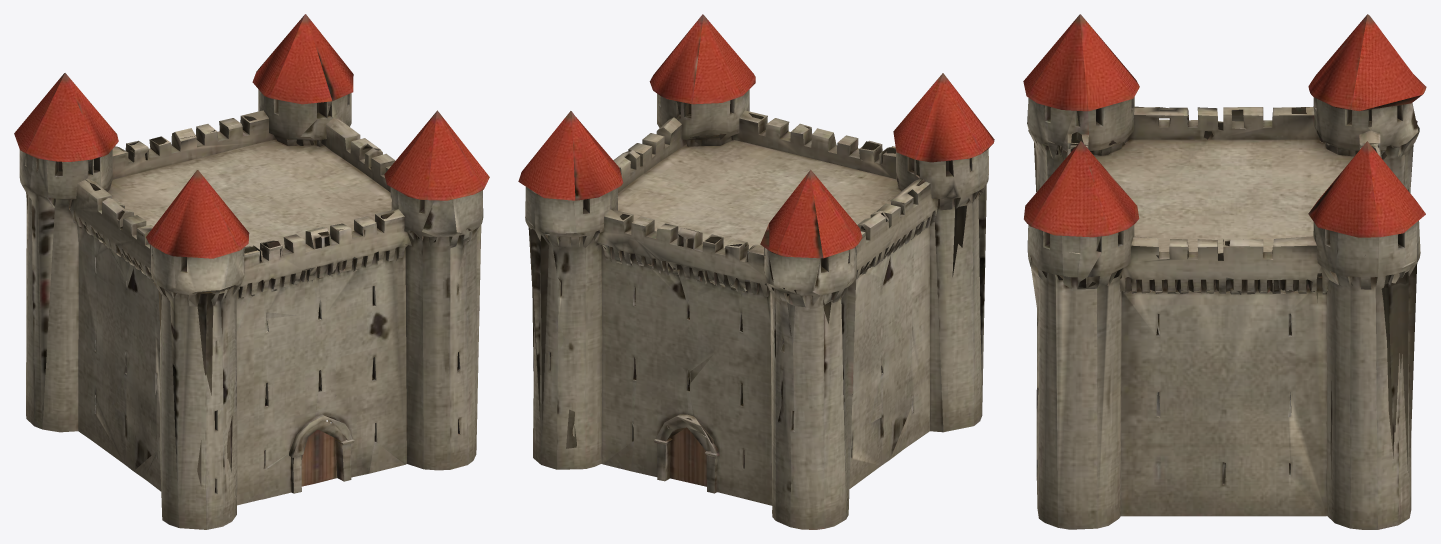
The model's file is keep.glb.
3 views of the same model, side by side, from view 1: azimuth 30°, elevation 25°; view 2: azimuth 150°, elevation 25°; view 3: azimuth 270°, elevation 25° (orthographic). The views are drawn at different scales.
Visible parts, largest first — view 1: geometry_0; view 2: geometry_0; view 3: geometry_0.
Part boxes in pixels (left/top/right/bottom): geometry_0: left=14, top=14, right=489, bottom=529; geometry_0: left=518, top=14, right=994, bottom=529; geometry_0: left=1023, top=14, right=1426, bottom=529.
Size of the model in its own units: 1.8 by 1.8 by 1.76.
1 material, 1 textured.
